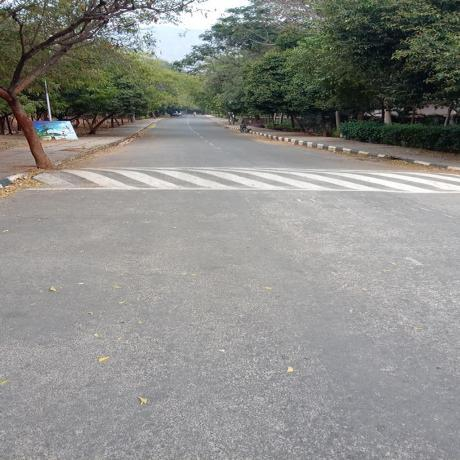Speed Bump: (23, 167, 459, 190)
